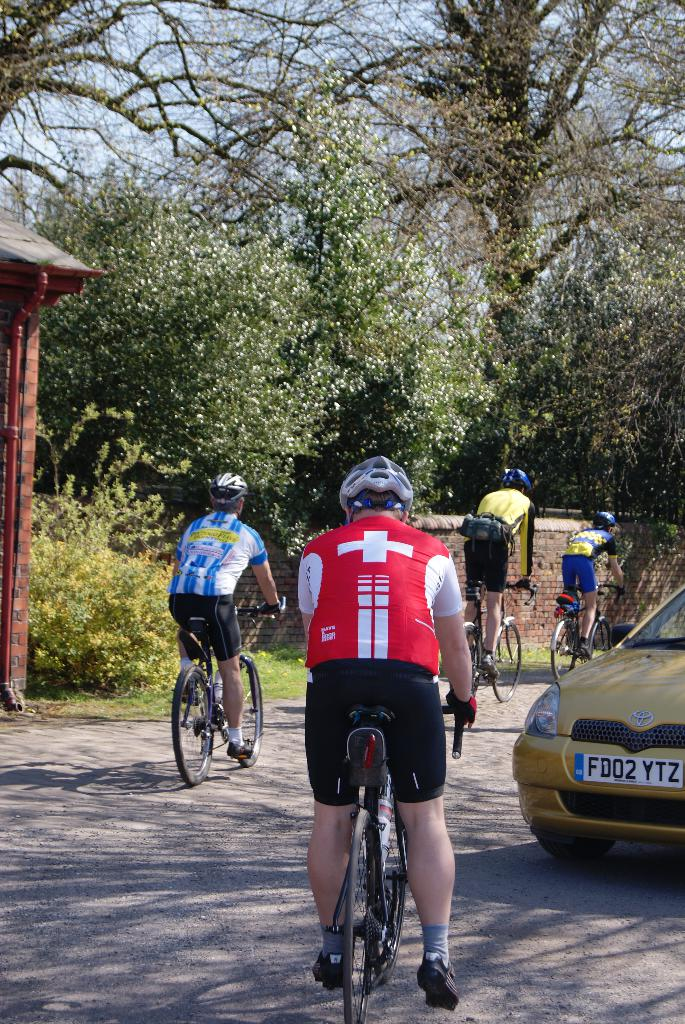Bike_away: (267, 699, 504, 1024), (148, 608, 292, 799)
